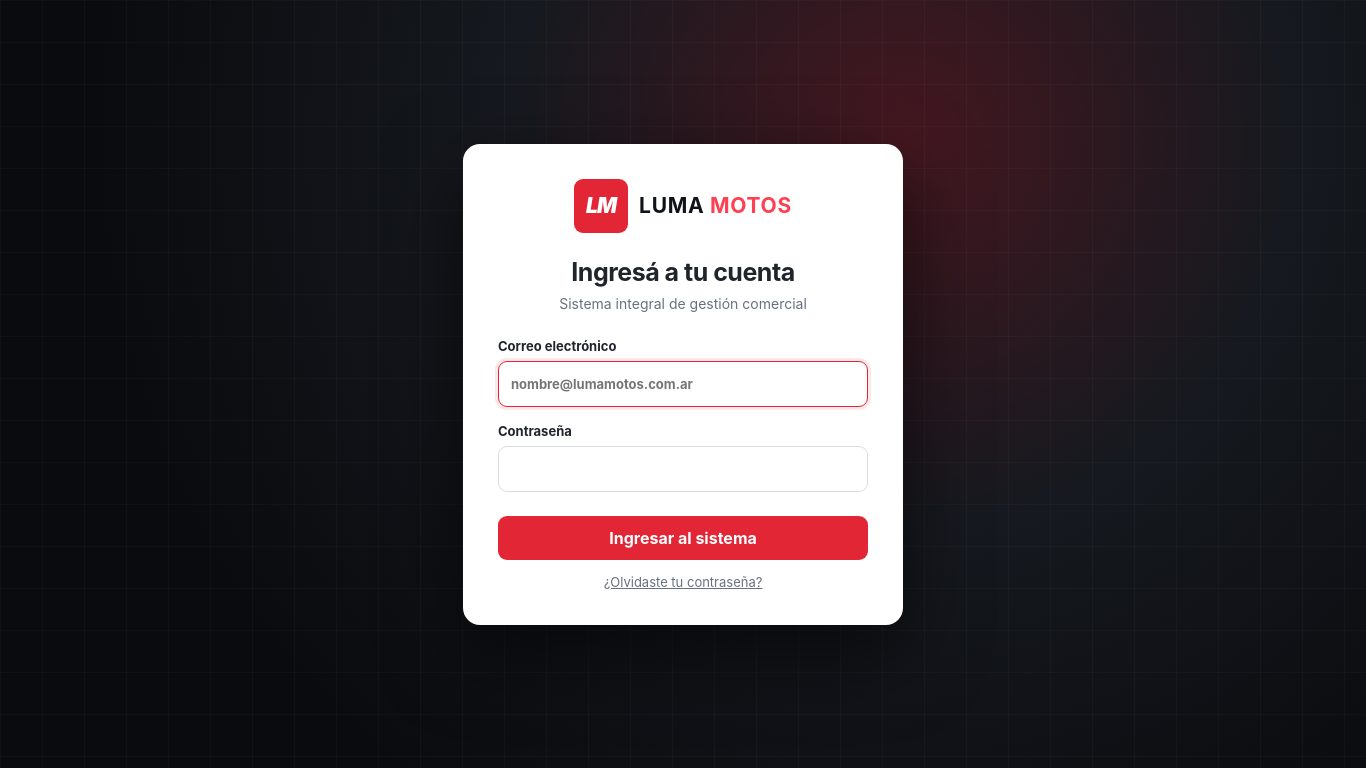
rutas de autenticación › expone primer acceso sin sesión e inicia el cambio de contraseña temporal
Expected: the heading "Ingresá a tu cuenta" is shown, [571, 256, 795, 286]
In the field labelled "Correo electrónico": coordinates (683, 384) [498, 360, 868, 406], type "persona@lumamotos.com.ar"
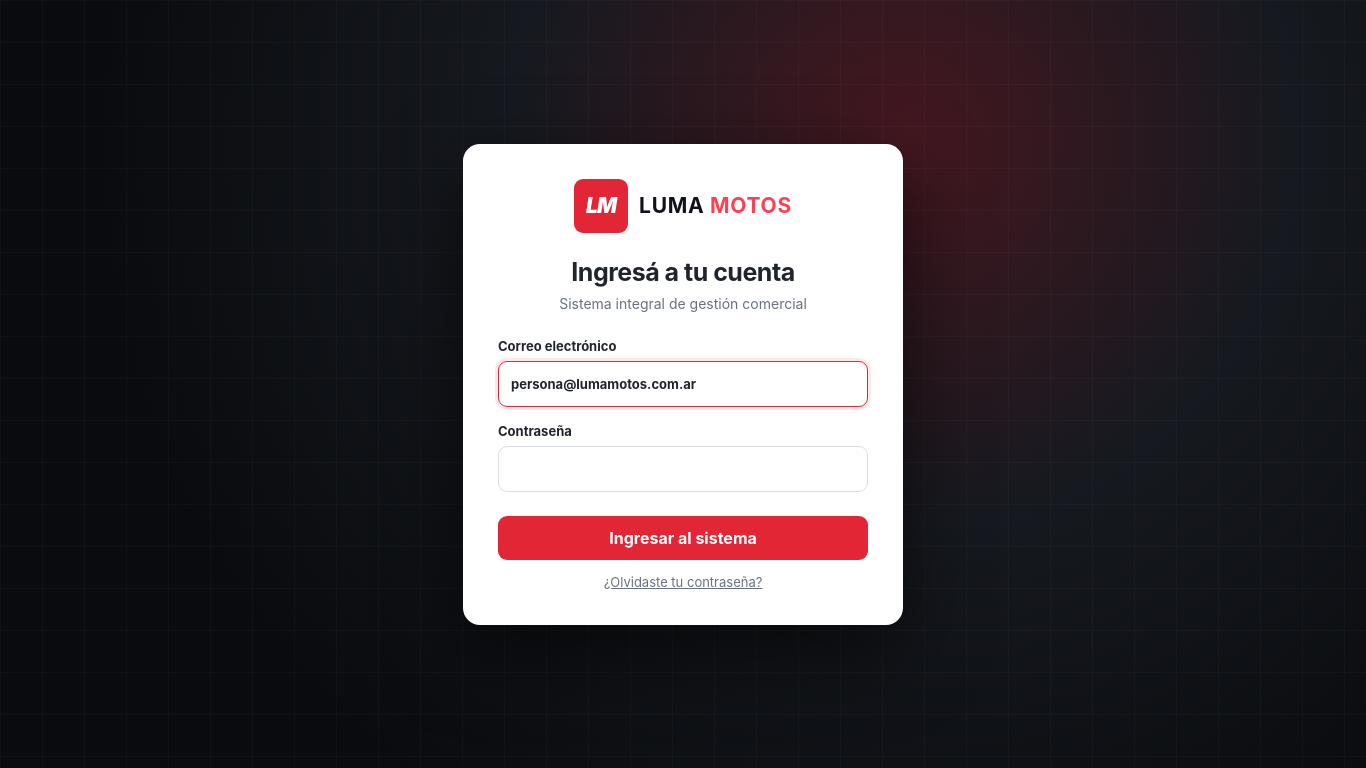
In the password field labelled "Contraseña": coordinates (683, 468) [498, 446, 868, 492], type "credencial-temporal"
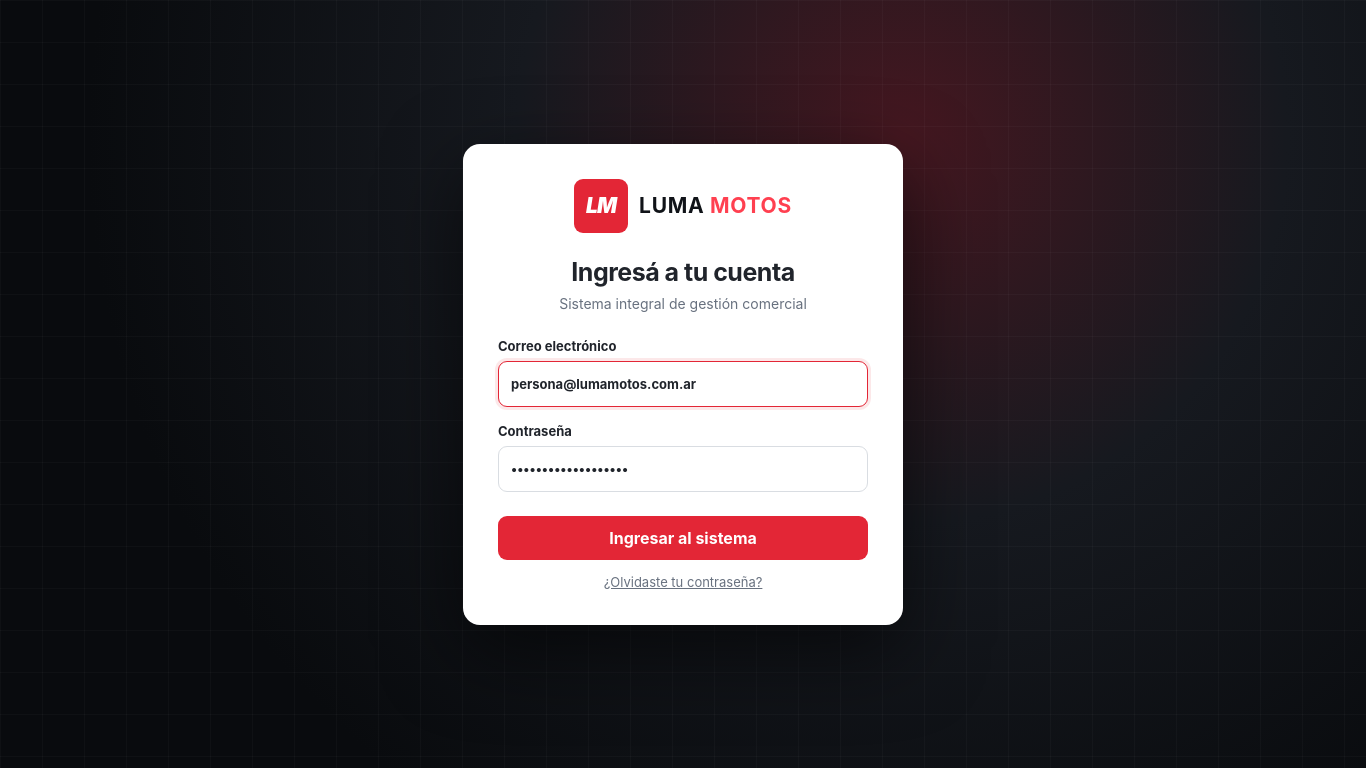
Click the button "Ingresar al sistema": coordinates (683, 538) [498, 516, 868, 560]
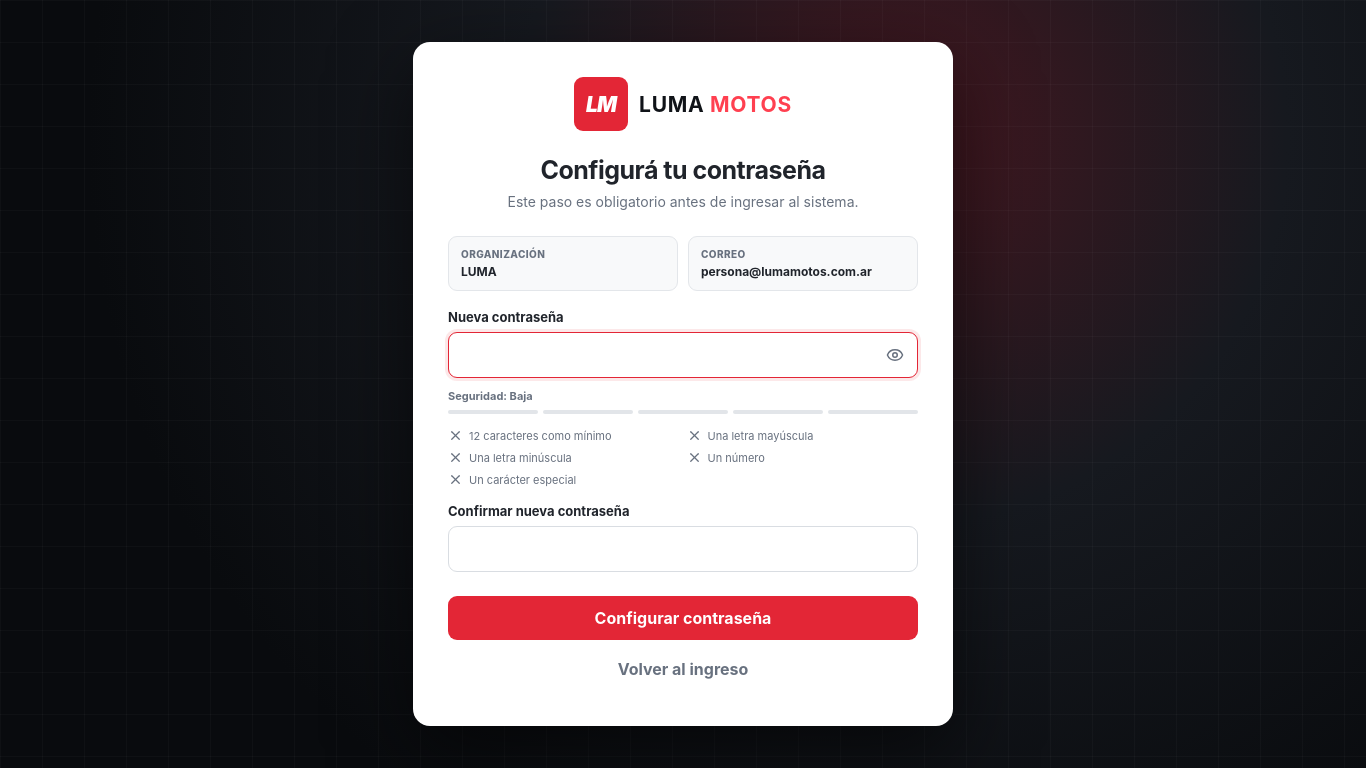
Now the heading "Configurá tu contraseña" is shown, box [540, 155, 826, 185]
